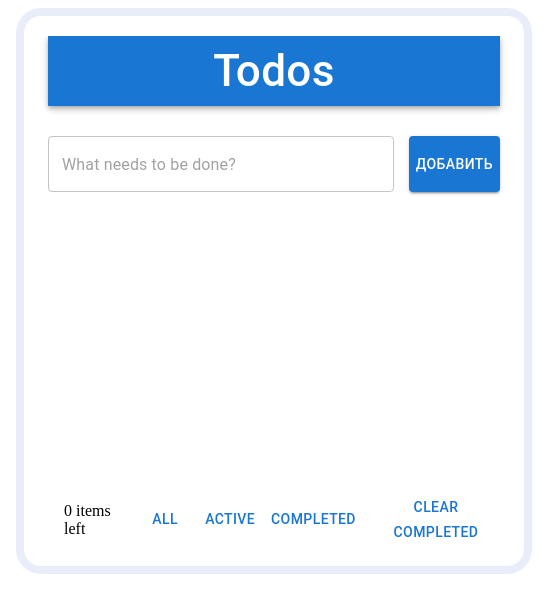
Test: фильтрация активных задач
Добавляем задачи
Step 1. Type "Задача 1" into the field with placeholder "What needs to be done?" → (221, 164), box [48,136,394,192]
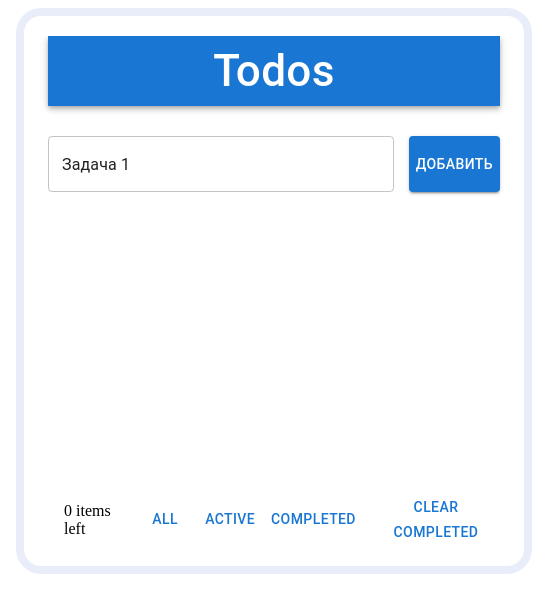
Step 2. Click the button "Добавить" → (454, 164), box [409,136,500,192]
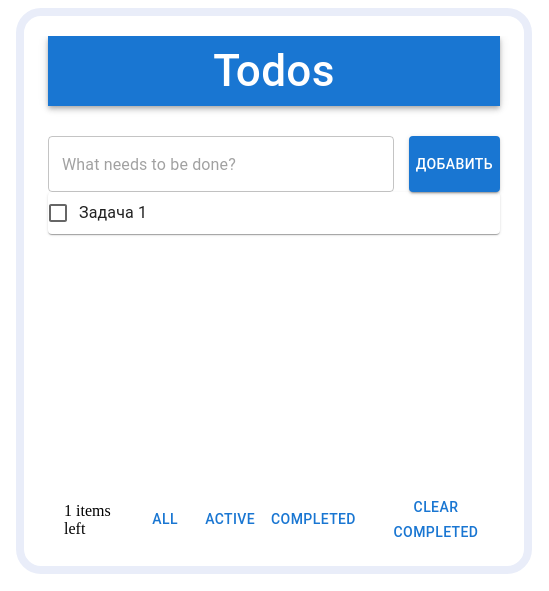
Step 3. Type "Задача 2" into the field with placeholder "What needs to be done?" → (221, 164), box [48,136,394,192]
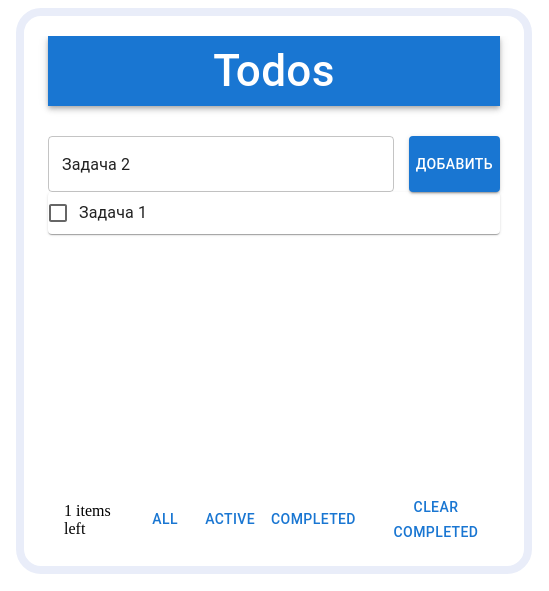
Step 4. Click the button "Добавить" → (454, 164), box [409,136,500,192]
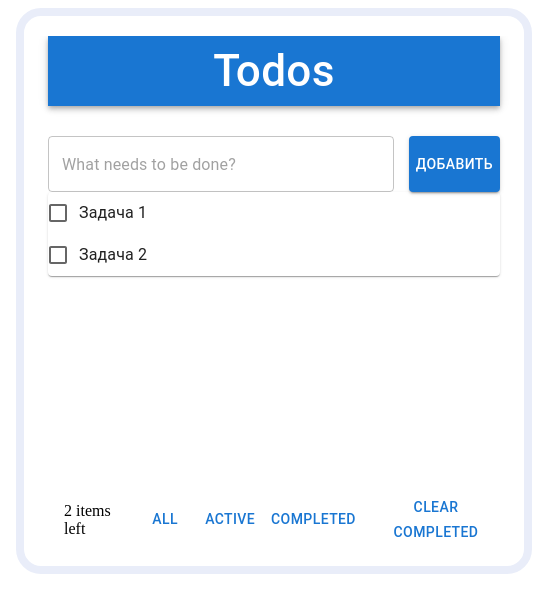
Переключаем одну из задач в выполненное состояние
Step 5. Click the checkbox labelled "Задача 1" → (97, 213), box [46,201,147,225]
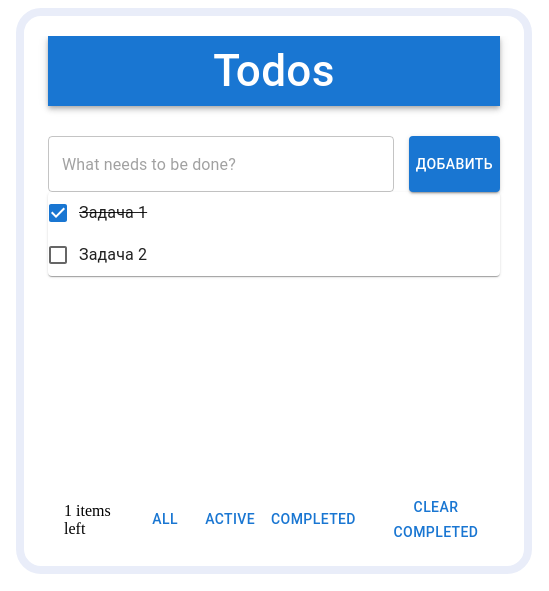
Выбираем активные задачи
Step 6. Click the button "Active" → (230, 520), box [197,501,263,538]
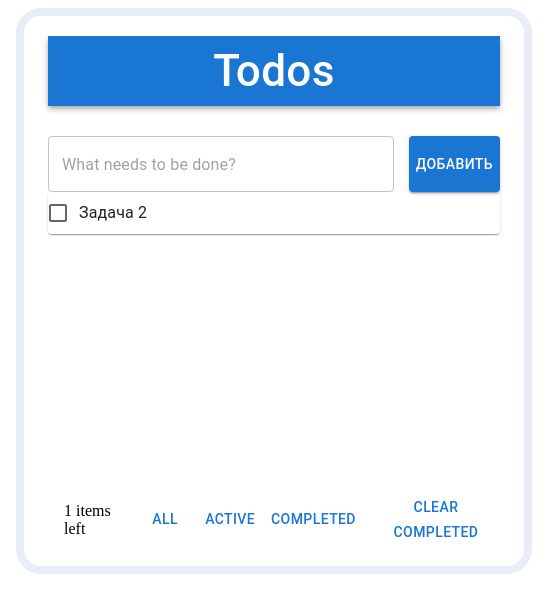
expect the element with test id "task" reads "Задача 2": met, box [79,203,147,222]
expect the number of elements with test id "task" is 1: met, box [48,201,147,225]
